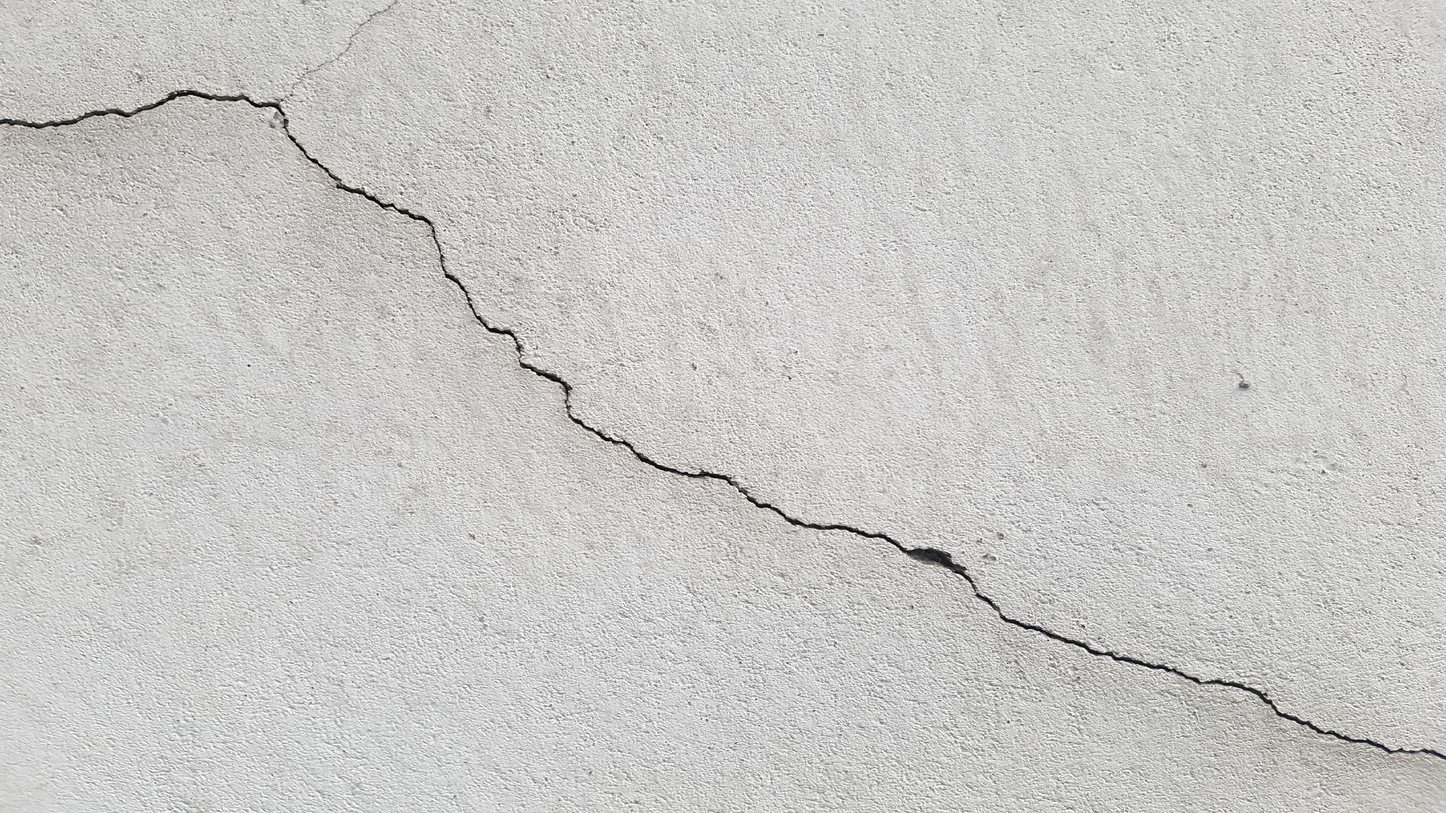crack: (0, 89, 1445, 761)
